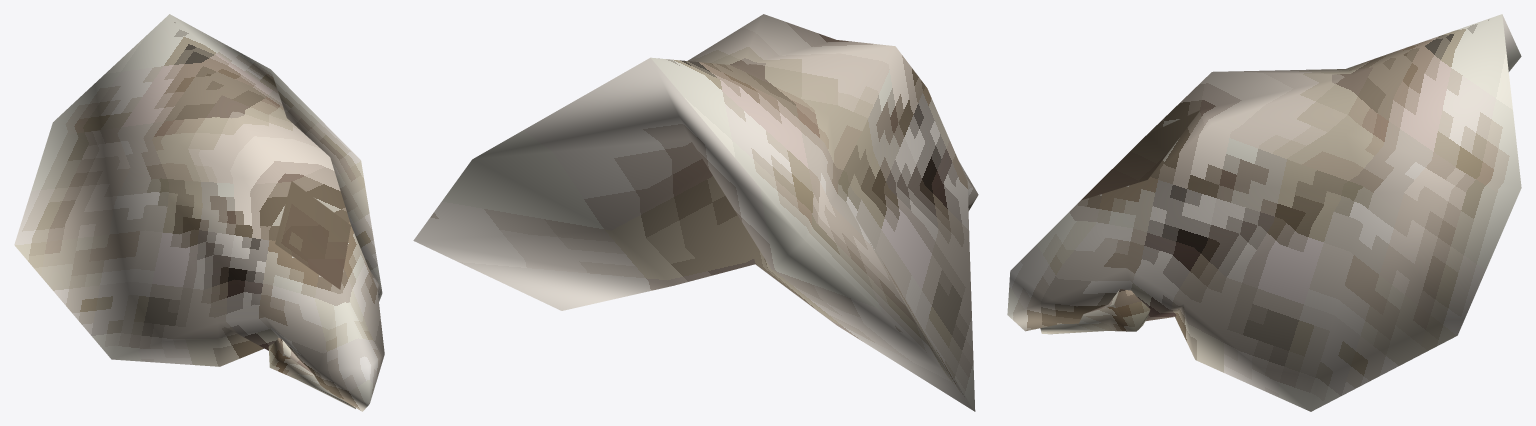
Rendered from thm_dant_thune_skull_l3.fbx.
The picture shows the model from 3 angles, left to right: view 1: azimuth 30°, elevation 25°; view 2: azimuth 150°, elevation 25°; view 3: azimuth 270°, elevation 25°; orthographic projection. The views are drawn at different scales.
Visible parts, largest first — view 1: mesh_node; view 2: mesh_node; view 3: mesh_node.
Boxes of the visible parts, x1,y1,x2,y2 form: mesh_node: (14, 14, 384, 411); mesh_node: (413, 14, 978, 411); mesh_node: (1007, 14, 1521, 411).
Size of the model in its own units: 1.84 by 1.32 by 1.92.
1 material, 1 textured.
